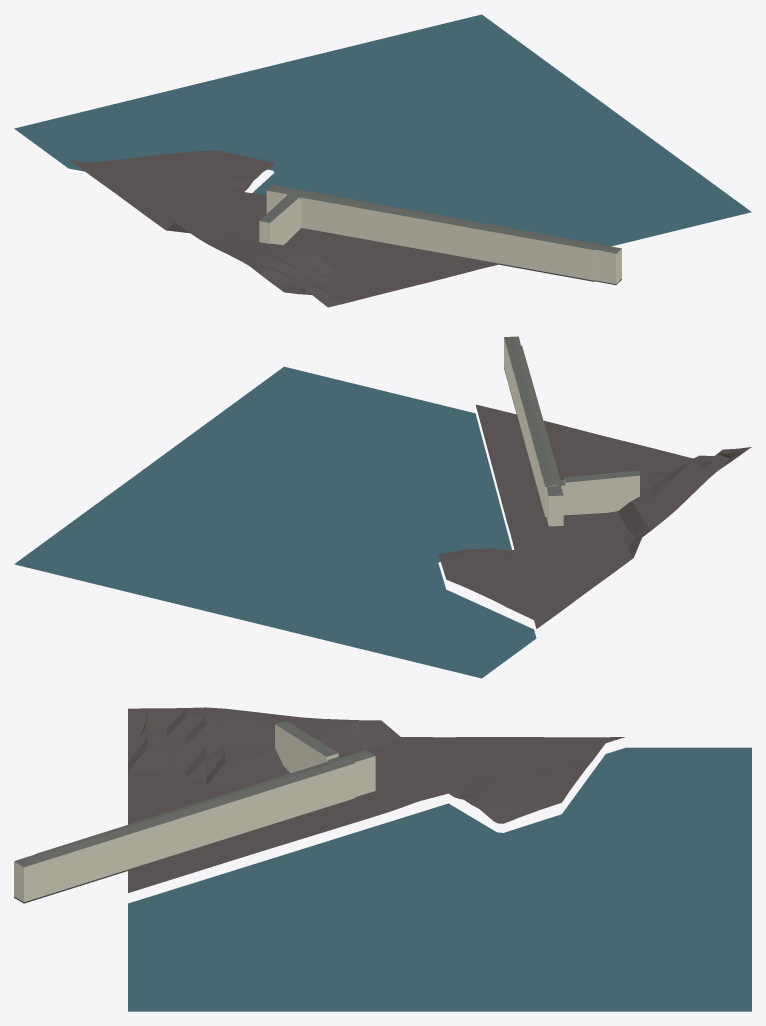
The picture shows the model from 3 angles, top to bottom: view 1: azimuth 30°, elevation 25°; view 2: azimuth 150°, elevation 25°; view 3: azimuth 270°, elevation 25°; orthographic projection. The views are drawn at different scales.
Visible parts, largest first — view 1: c_p03_p07; view 2: c_p03_p07; view 3: c_p03_p07.
Boxes of the visible parts, left/top/right/bottom form: c_p03_p07: left=14, top=14, right=751, bottom=307; c_p03_p07: left=14, top=336, right=751, bottom=678; c_p03_p07: left=14, top=707, right=751, bottom=1011.
Bounding box in the file's own units: 128 × 11.67 × 151.
